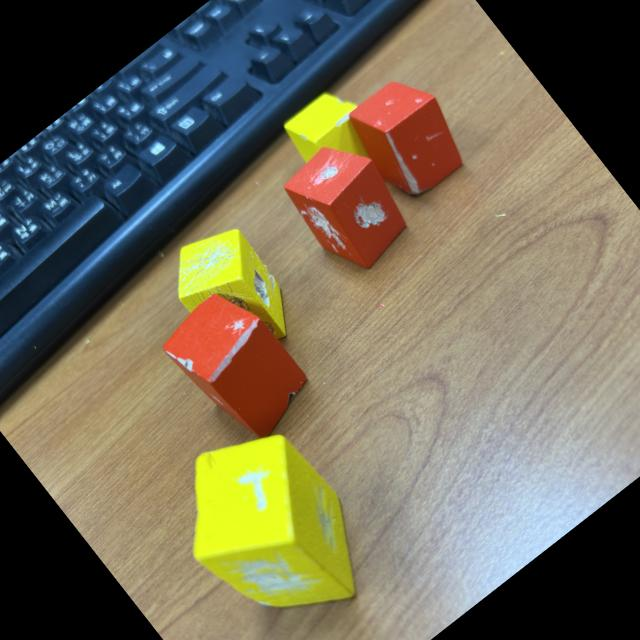broken: (146, 401, 396, 640), (154, 278, 322, 454), (154, 211, 310, 375), (273, 128, 424, 284), (338, 64, 480, 210), (277, 79, 397, 201)
